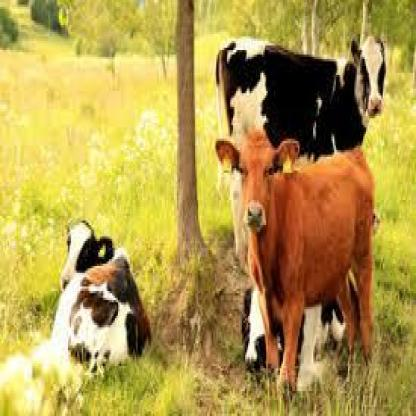cow: (221, 129, 377, 382), (216, 30, 386, 172), (56, 218, 154, 371), (240, 280, 358, 375)
